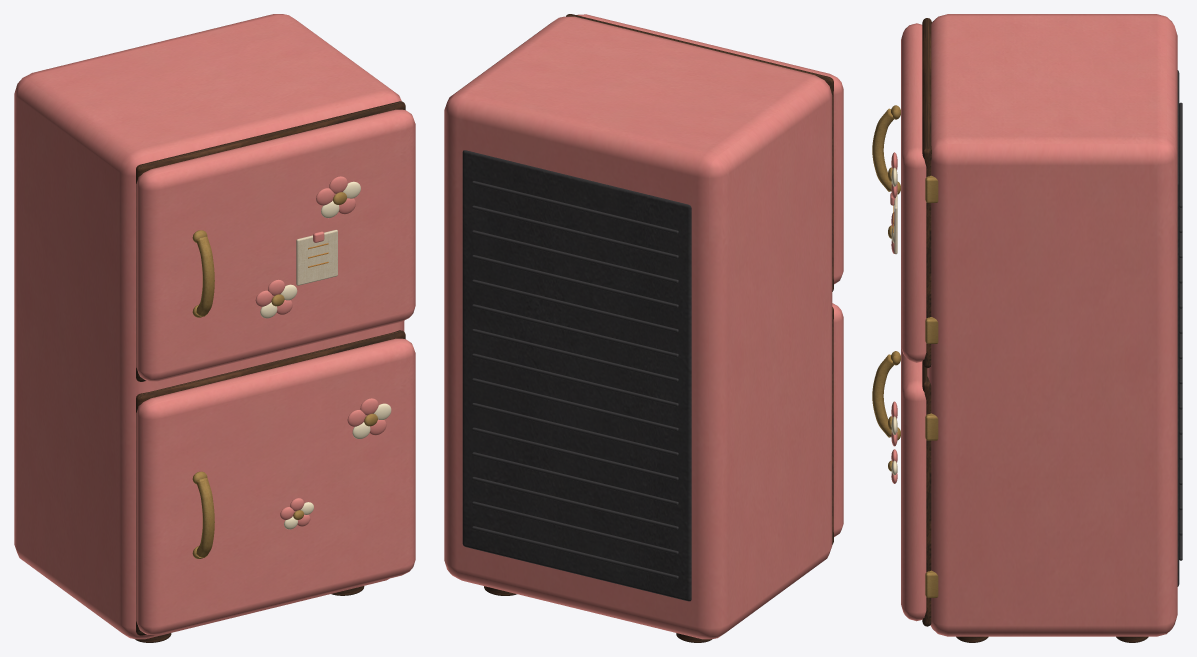
Rendered from SM_InteriorAdditions_Refrigerator.fbx.
3 views of the same model, side by side, from view 1: azimuth 30°, elevation 25°; view 2: azimuth 150°, elevation 25°; view 3: azimuth 270°, elevation 25° (orthographic). The views are drawn at different scales.
Visible parts, largest first — view 1: SM_InteriorAdditions_Refrigerator; view 2: SM_InteriorAdditions_Refrigerator; view 3: SM_InteriorAdditions_Refrigerator.
Boxes of the visible parts, left/top/right/bottom form: SM_InteriorAdditions_Refrigerator: left=14, top=14, right=415, bottom=642; SM_InteriorAdditions_Refrigerator: left=444, top=14, right=843, bottom=642; SM_InteriorAdditions_Refrigerator: left=872, top=14, right=1182, bottom=642.
Size of what is drawn, in the model's own units: 102 by 95.47 by 173.
